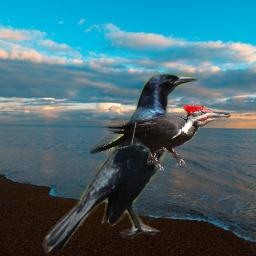Crow: (42, 71, 199, 254)
Woodpecker: (90, 104, 231, 172)
